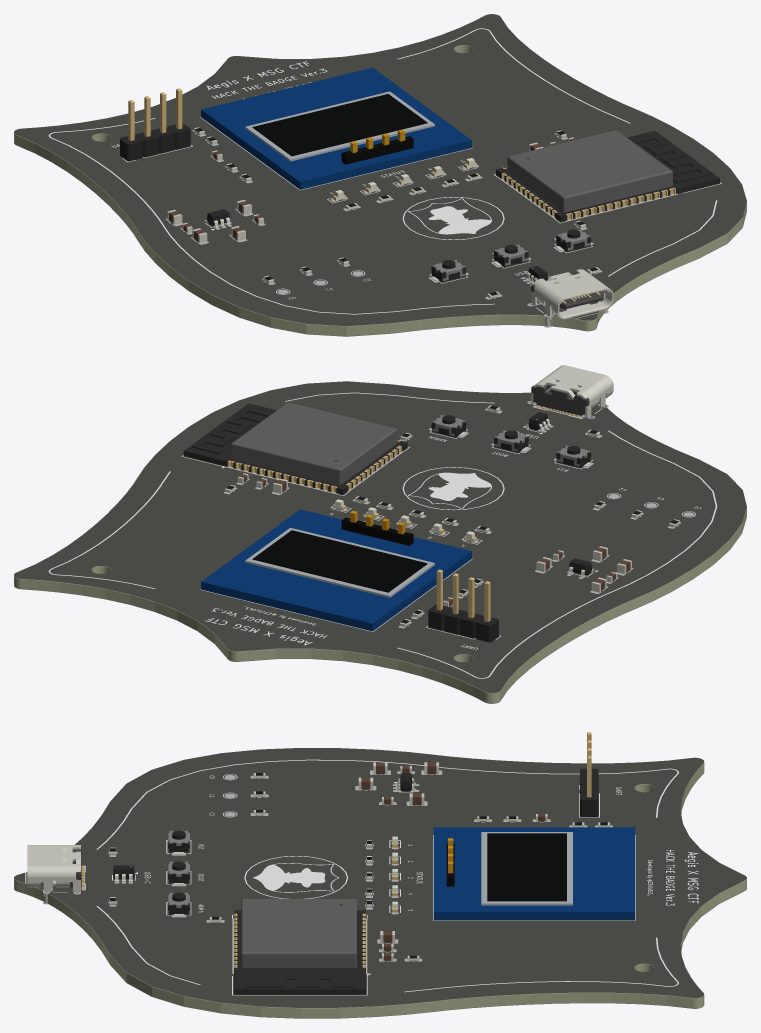
Rendered from hacking_box_v2_assembly.glb.
The picture shows the model from 3 angles, top to bottom: view 1: azimuth 30°, elevation 25°; view 2: azimuth 150°, elevation 25°; view 3: azimuth 270°, elevation 25°; orthographic projection.
Parts seen in each view (by area): view 1: =>[0:1:1:37], =>[0:1:1:35], OLED_0.96in_I2C (Shell) (×4), =>[0:1:1:23], =>[0:1:1:33], =>[0:1:1:17], =>[0:1:1:3], =>[0:1:1:21] (×3), =>[0:1:1:32], =>[0:1:1:36]; view 2: =>[0:1:1:37], =>[0:1:1:35], OLED_0.96in_I2C (Shell) (×4), =>[0:1:1:23], =>[0:1:1:33], =>[0:1:1:17], =>[0:1:1:3], =>[0:1:1:21] (×3), =>[0:1:1:32], =>[0:1:1:36]; view 3: =>[0:1:1:37], =>[0:1:1:35], OLED_0.96in_I2C (Shell) (×3), =>[0:1:1:23], =>[0:1:1:33], =>[0:1:1:17], =>[0:1:1:32], =>[0:1:1:21] (×3), =>[0:1:1:3], =>[0:1:1:36].
Boxes of the visible parts, x1,y1,x2,y2 form: =>[0:1:1:37]: (14, 15, 746, 336); =>[0:1:1:35]: (14, 14, 746, 326); OLED_0.96in_I2C (Shell) (×4): (201, 67, 471, 189); =>[0:1:1:23]: (496, 130, 719, 221); =>[0:1:1:33]: (48, 28, 721, 318); =>[0:1:1:17]: (531, 269, 613, 320); =>[0:1:1:3]: (120, 88, 190, 161); =>[0:1:1:21] (×3): (431, 229, 591, 282); =>[0:1:1:32]: (165, 130, 678, 327); =>[0:1:1:36]: (15, 144, 742, 336); =>[0:1:1:37]: (14, 382, 746, 703); =>[0:1:1:35]: (14, 381, 746, 693); OLED_0.96in_I2C (Shell) (×4): (201, 509, 471, 631); =>[0:1:1:23]: (183, 402, 407, 494); =>[0:1:1:33]: (48, 392, 717, 678); =>[0:1:1:17]: (531, 365, 613, 417); =>[0:1:1:3]: (428, 569, 498, 642); =>[0:1:1:21] (×3): (431, 415, 591, 467); =>[0:1:1:32]: (224, 401, 694, 628); =>[0:1:1:36]: (14, 534, 741, 703); =>[0:1:1:37]: (14, 749, 746, 1018); =>[0:1:1:35]: (14, 748, 746, 1007); OLED_0.96in_I2C (Shell) (×3): (433, 827, 635, 920); =>[0:1:1:23]: (234, 899, 365, 994); =>[0:1:1:33]: (25, 759, 698, 995); =>[0:1:1:17]: (27, 845, 84, 896); =>[0:1:1:32]: (43, 770, 612, 973); =>[0:1:1:21] (×3): (168, 830, 189, 916); =>[0:1:1:3]: (580, 732, 598, 816); =>[0:1:1:36]: (14, 773, 746, 1018).
Size of the model in its own units: 0.084 by 0.0115 by 0.1.
